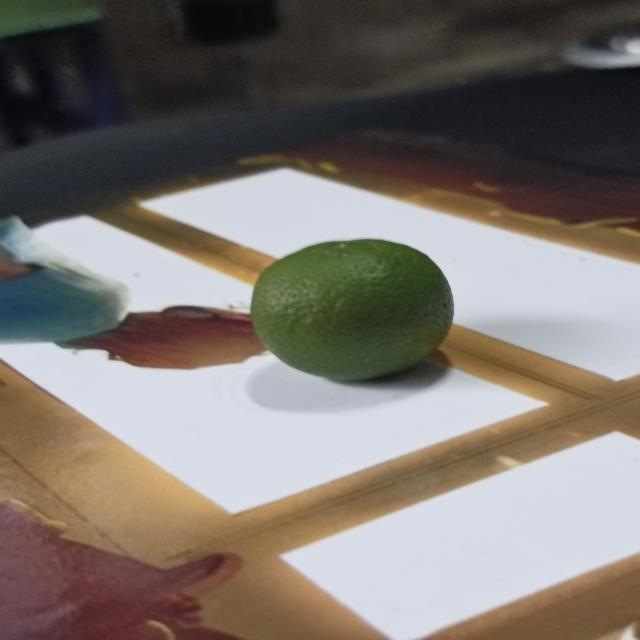heathy: (240, 231, 460, 383)
